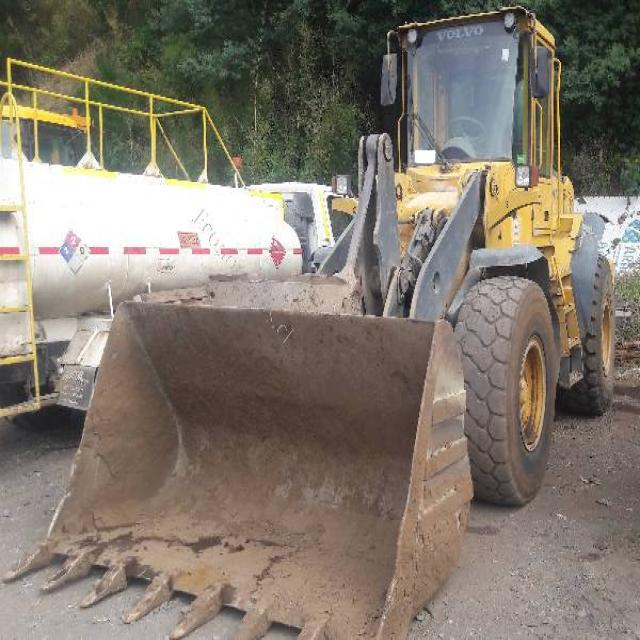buldozerpayloadergrader: (44, 7, 620, 629)
